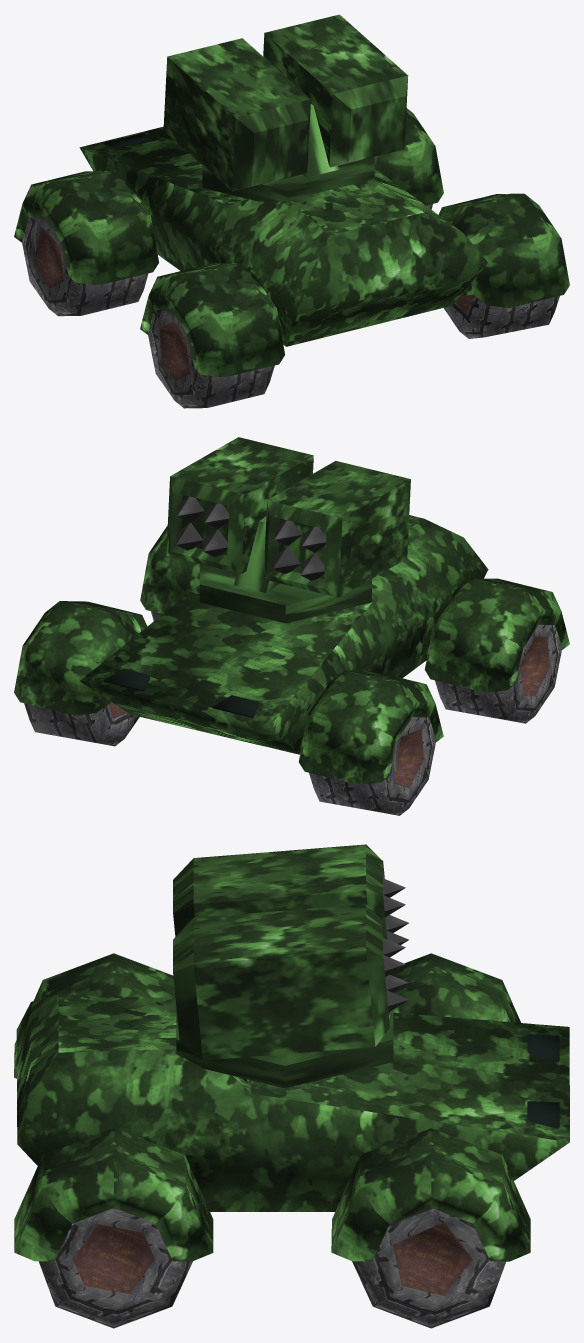
The model's file is battery_tank.glb.
The picture shows the model from 3 angles, top to bottom: view 1: azimuth 30°, elevation 25°; view 2: azimuth 150°, elevation 25°; view 3: azimuth 270°, elevation 25°; orthographic projection. The views are drawn at different scales.
Parts seen in each view (by area): view 1: Hull, Battery; view 2: Hull, Battery; view 3: Hull, Battery.
Boxes of the visible parts, x1=… form: Hull: x1=14, y1=108, x2=569, y2=408; Battery: x1=163, y1=14, x2=408, y2=201; Hull: x1=14, y1=515, x2=569, y2=815; Battery: x1=166, y1=437, x2=410, y2=623; Hull: x1=14, y1=953, x2=569, y2=1328; Battery: x1=173, y1=844, x2=408, y2=1088.
Bounding box in the file's own units: 4.63 × 3.1 × 4.8.
3 materials, 3 textured.
